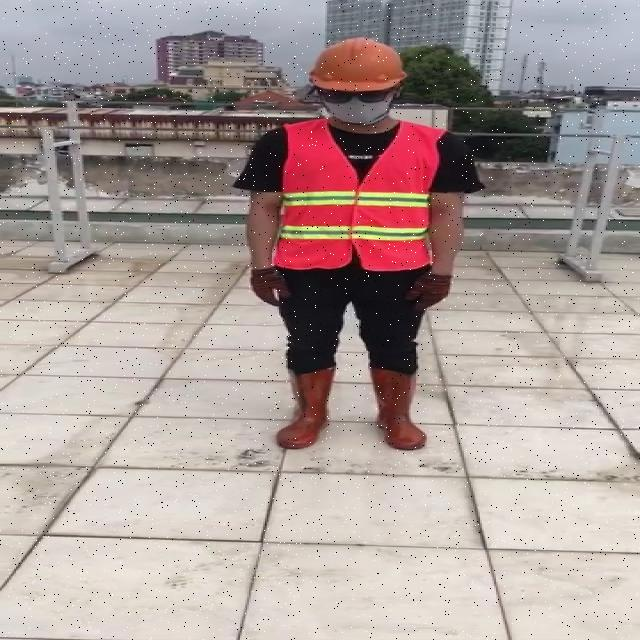Hard_hat: (302, 35, 412, 98)
Person: (228, 33, 490, 469)
Vest: (272, 119, 436, 272)
